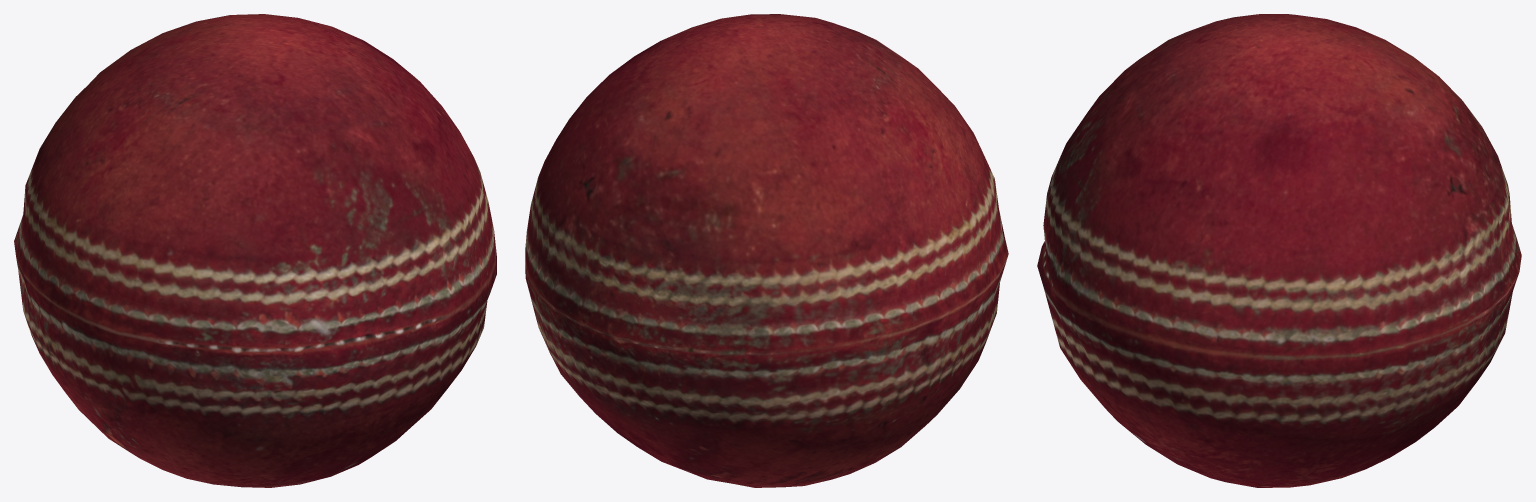
File: Cricket Ball.fbx
The picture shows the model from 3 angles, left to right: view 1: azimuth 30°, elevation 25°; view 2: azimuth 150°, elevation 25°; view 3: azimuth 270°, elevation 25°; orthographic projection.
Parts seen in each view (by area): view 1: Cricket Ball; view 2: Cricket Ball; view 3: Cricket Ball.
Boxes of the visible parts, x1,y1,x2,y2 form: Cricket Ball: [14, 14, 496, 487]; Cricket Ball: [525, 14, 1008, 487]; Cricket Ball: [1037, 14, 1521, 487].
Bounding box in the file's own units: 9.83 × 9.65 × 9.88.
1 material, 1 textured.
